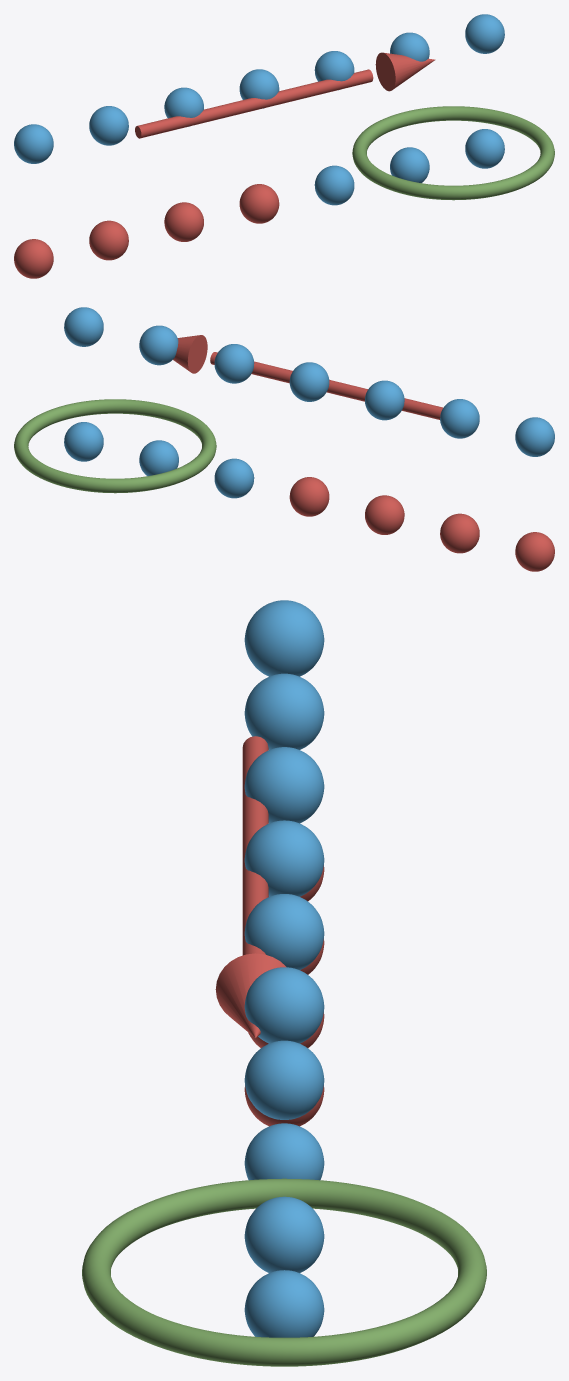
File: biology-health-epidemiology-spread.glb
3 renders of one model, top to bottom at view 1: azimuth 30°, elevation 25°; view 2: azimuth 150°, elevation 25°; view 3: azimuth 270°, elevation 25°, orthographic. The views are drawn at different scales.
Visible parts, largest first — view 1: prevention-break-ring, contact-spread-arrow-shaft, contact-spread-arrow-head, population-person-4, population-person-7, population-person-8, population-person-0, population-person-6, population-person-13, population-person-1, population-person-3, population-person-2 (+5 smaller); view 2: prevention-break-ring, contact-spread-arrow-shaft, population-person-4, population-person-7, population-person-8, population-person-9, population-person-0, population-person-6, population-person-13, population-person-10, population-person-1, population-person-11 (+5 smaller); view 3: prevention-break-ring, population-person-13, population-person-5, population-person-7, population-person-12, population-person-8, population-person-9, population-person-10, population-person-6, population-person-11, population-person-4, contact-spread-arrow-shaft (+1 smaller).
Boxes of the visible parts, left/top/right/bottom form: prevention-break-ring: left=352, top=106, right=554, bottom=200; contact-spread-arrow-shaft: left=135, top=69, right=373, bottom=138; contact-spread-arrow-head: left=375, top=52, right=435, bottom=91; population-person-4: left=314, top=165, right=354, bottom=205; population-person-7: left=14, top=124, right=53, bottom=163; population-person-8: left=89, top=106, right=128, bottom=145; population-person-0: left=14, top=239, right=53, bottom=278; population-person-6: left=465, top=129, right=504, bottom=168; population-person-13: left=465, top=14, right=504, bottom=53; population-person-1: left=89, top=220, right=128, bottom=260; population-person-3: left=239, top=184, right=279, bottom=223; population-person-2: left=164, top=202, right=203, bottom=241; prevention-break-ring: left=14, top=399, right=216, bottom=493; contact-spread-arrow-shaft: left=210, top=352, right=442, bottom=419; population-person-4: left=214, top=458, right=254, bottom=498; population-person-7: left=515, top=417, right=554, bottom=456; population-person-8: left=440, top=399, right=479, bottom=438; population-person-9: left=365, top=380, right=404, bottom=420; population-person-0: left=515, top=532, right=554, bottom=571; population-person-6: left=64, top=422, right=103, bottom=461; population-person-13: left=64, top=307, right=103, bottom=346; population-person-10: left=289, top=362, right=329, bottom=401; population-person-1: left=440, top=513, right=479, bottom=553; population-person-11: left=214, top=344, right=254, bottom=383; prevention-break-ring: left=82, top=1178, right=486, bottom=1366; population-person-13: left=244, top=1040, right=324, bottom=1119; population-person-5: left=244, top=1196, right=324, bottom=1272; population-person-7: left=244, top=600, right=324, bottom=676; population-person-12: left=244, top=967, right=324, bottom=1043; population-person-8: left=244, top=673, right=324, bottom=749; population-person-9: left=244, top=747, right=324, bottom=823; population-person-10: left=244, top=820, right=324, bottom=896; population-person-6: left=244, top=1270, right=324, bottom=1337; population-person-11: left=244, top=894, right=324, bottom=970; population-person-4: left=244, top=1123, right=324, bottom=1180; contact-spread-arrow-shaft: left=242, top=736, right=268, bottom=955.
Size of what is drawn, in the model's own units: 1.68 by 0.46 by 0.56.
